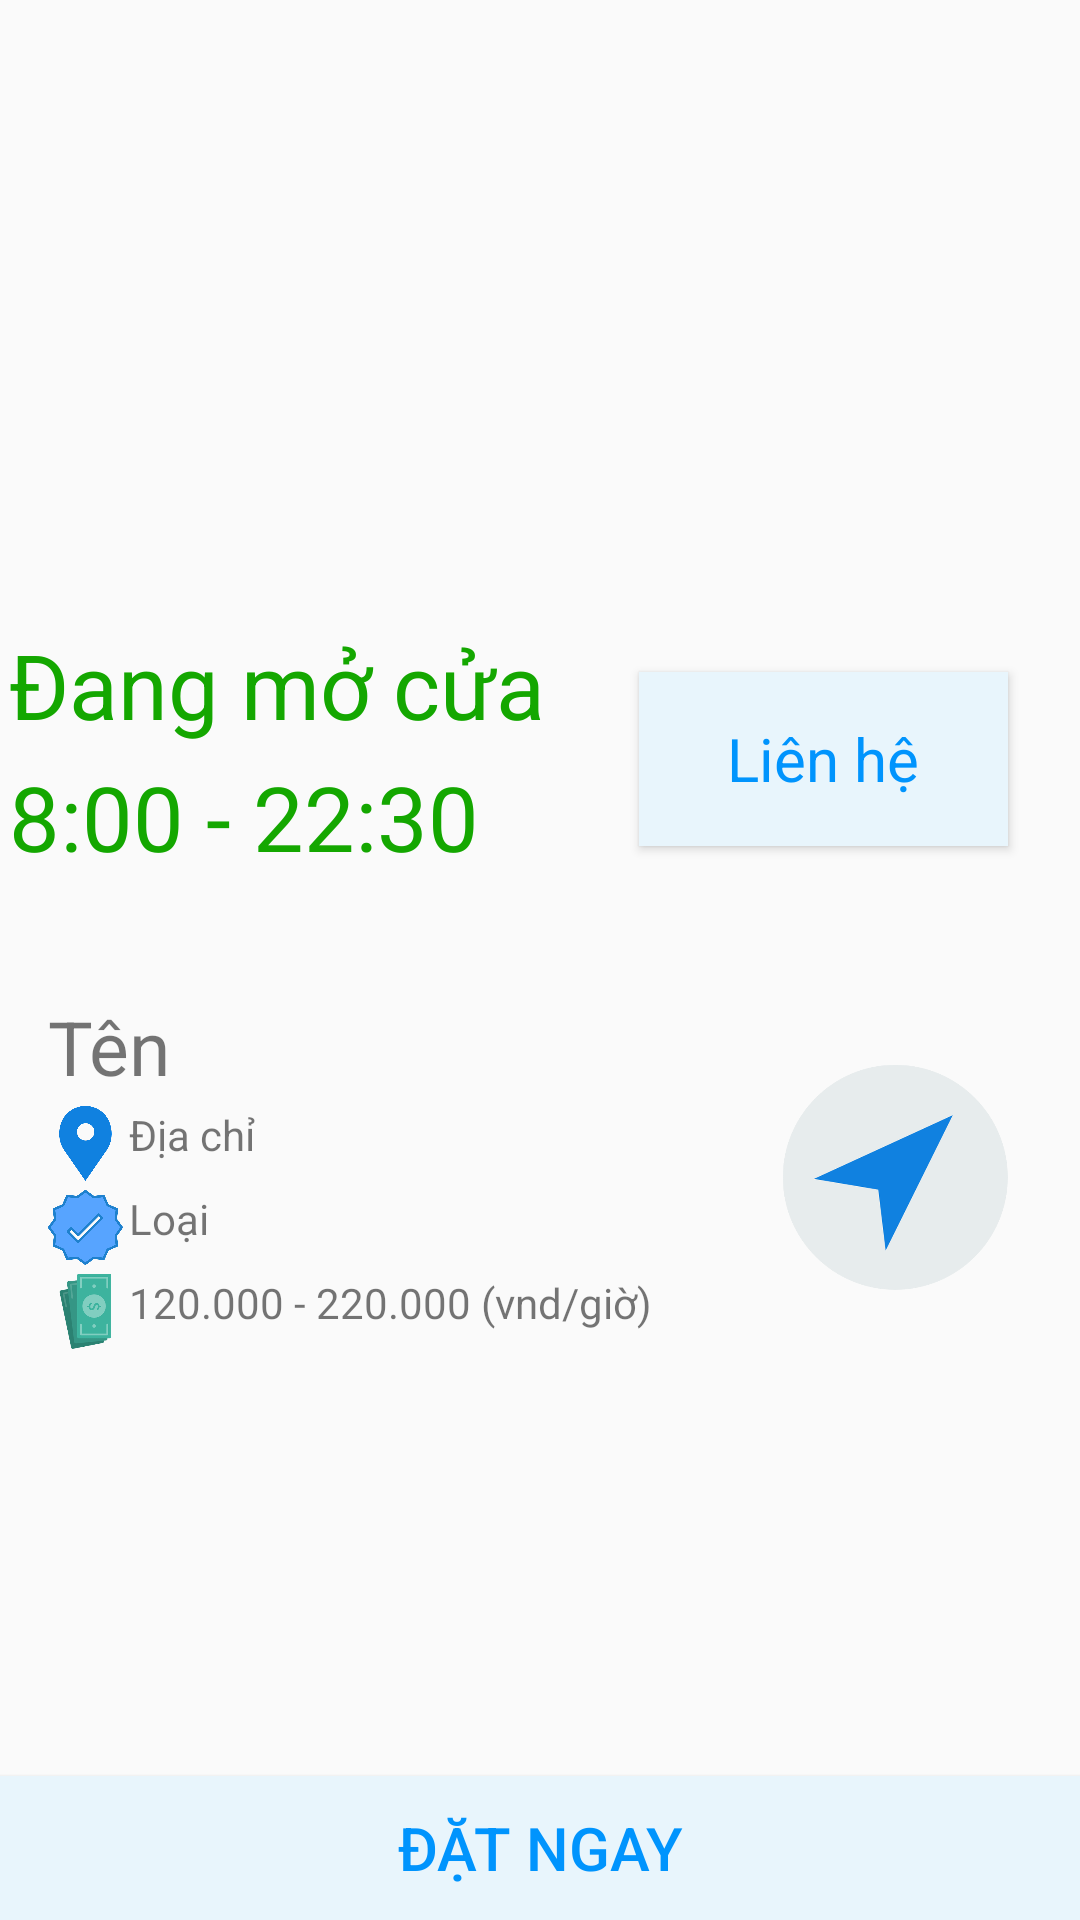

Where to tap for icons on this 1080px x 1920px app screen, as [x,y]:
correct: [85,1227]
money: [85,1311]
navigation: [895,1177]
